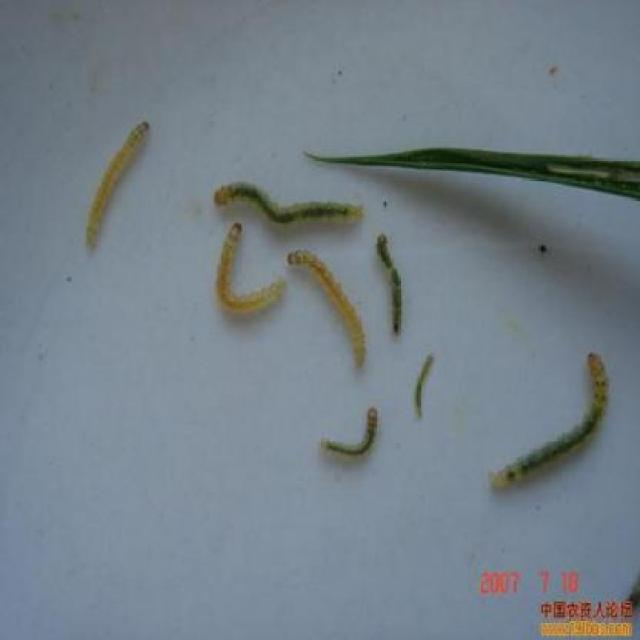leaf-folder: (494, 346, 615, 500), (208, 158, 364, 252), (276, 241, 375, 382), (81, 110, 156, 264), (213, 219, 284, 330), (372, 205, 413, 349), (320, 402, 395, 463), (407, 344, 451, 419)
